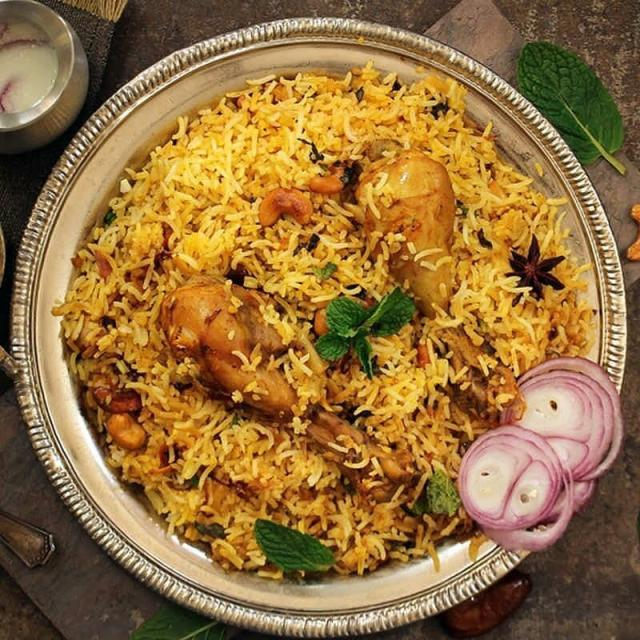non veg meals: (46, 46, 628, 586)
